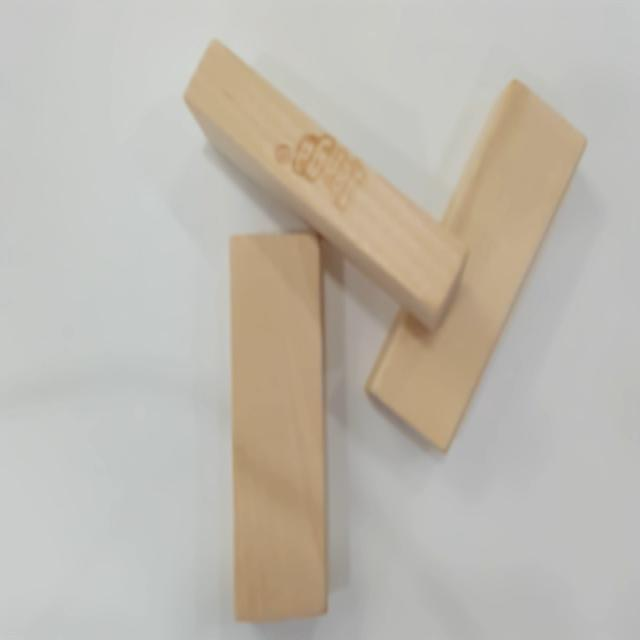Jenga: (184, 35, 471, 335), (362, 77, 589, 454), (230, 228, 332, 622)
